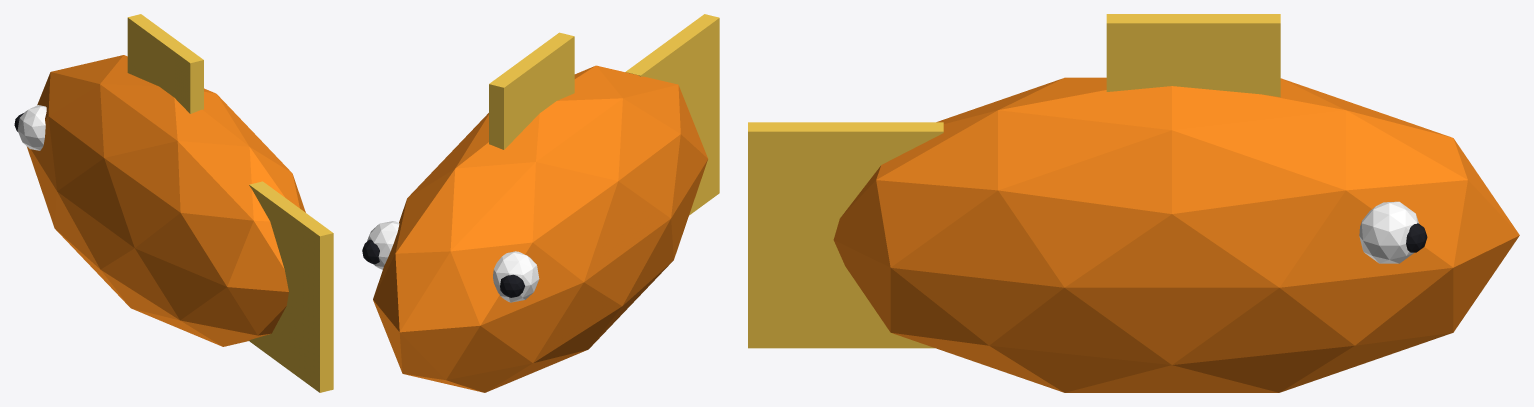
The model's file is Scuba_Fish.fbx.
3 renders of one model, left to right at view 1: azimuth 30°, elevation 25°; view 2: azimuth 150°, elevation 25°; view 3: azimuth 270°, elevation 25°, orthographic. The views are drawn at different scales.
Parts seen in each view (by area): view 1: Fish; view 2: Fish; view 3: Fish.
Part boxes in pixels (left/top/right/bottom): Fish: left=14, top=14, right=333, bottom=392; Fish: left=362, top=14, right=719, bottom=392; Fish: left=748, top=14, right=1519, bottom=392.
Size of the model in its own units: 0.2283 by 0.38 by 0.71.
